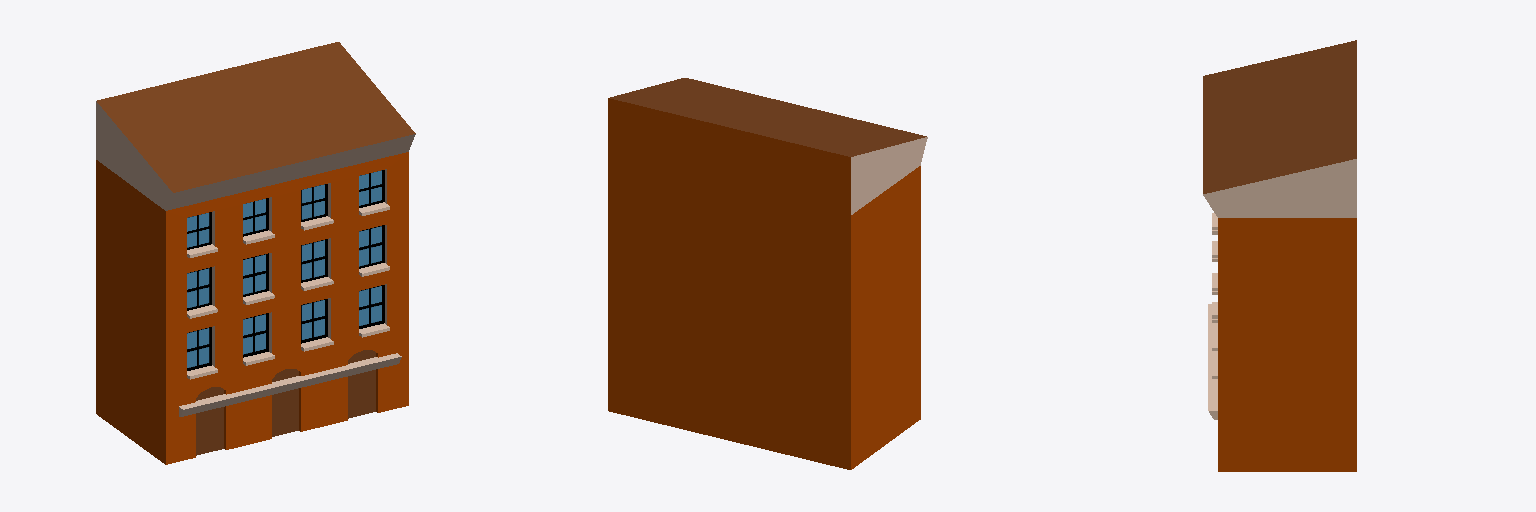
The picture shows the model from 3 angles: view 1: azimuth 30°, elevation 25°; view 2: azimuth 150°, elevation 25°; view 3: azimuth 270°, elevation 25°; orthographic projection.
Parts seen in each view (by area): view 1: kamienica2; view 2: kamienica2; view 3: kamienica2.
Part boxes in pixels (x1,y1,x2,y2): kamienica2: (96, 42, 415, 464); kamienica2: (608, 78, 927, 469); kamienica2: (1203, 40, 1356, 471).
Bounding box in the file's own units: 10 × 12.33 × 5.5.
Materials: 1 (1 with a texture image).